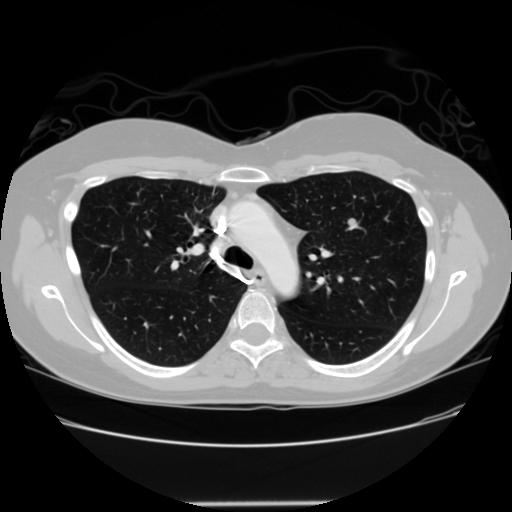nodule: (344, 214, 359, 229)
